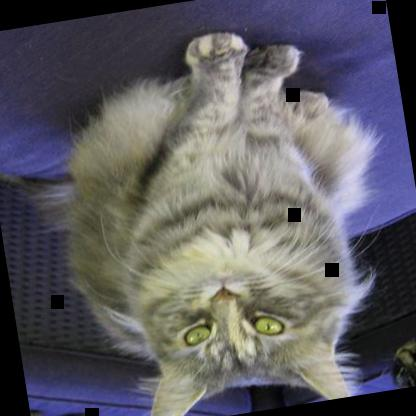cat: (8, 9, 411, 415)
